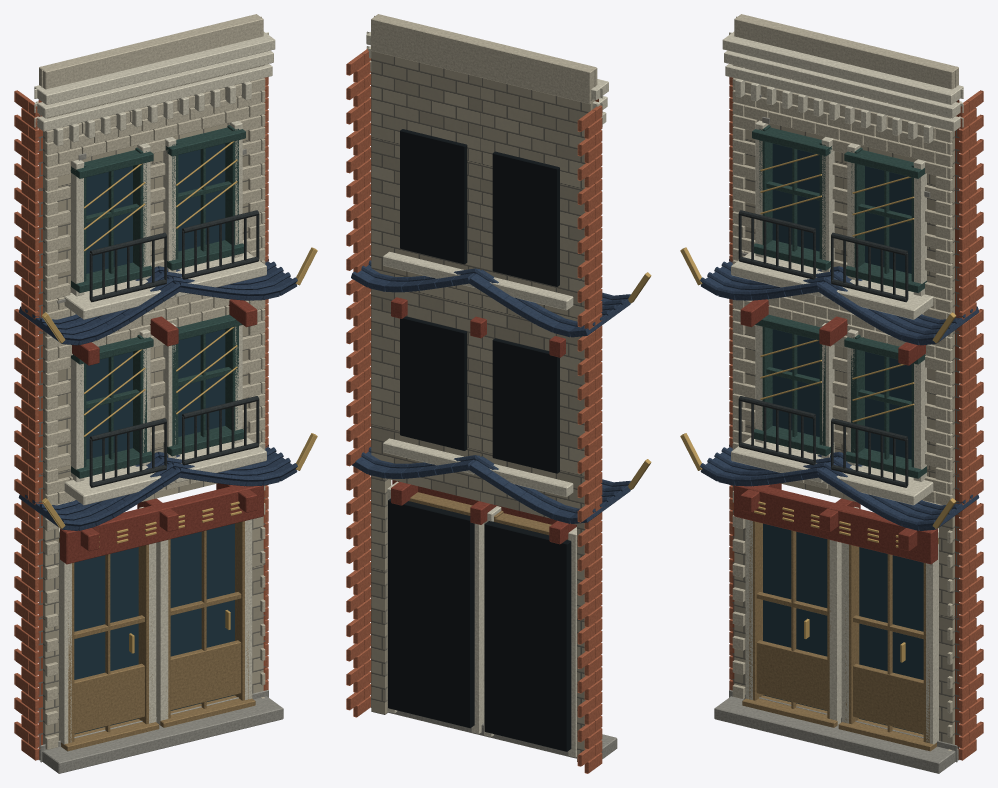
Rendered from CHINA17_lod0.glb.
The picture shows the model from 3 angles, left to right: view 1: azimuth 30°, elevation 25°; view 2: azimuth 150°, elevation 25°; view 3: azimuth 330°, elevation 25°; orthographic projection.
Parts seen in each view (by area): view 1: CHINA17_FRONT_LOD0; view 2: CHINA17_FRONT_LOD0; view 3: CHINA17_FRONT_LOD0.
Part boxes in pixels (<box>): CHINA17_FRONT_LOD0: <box>14,14,317,773</box>; CHINA17_FRONT_LOD0: <box>346,14,651,773</box>; CHINA17_FRONT_LOD0: <box>680,14,983,773</box>.
Size of the model in its own units: 4.01 by 9.66 by 1.27.
Materials: 19 (16 with a texture image).
